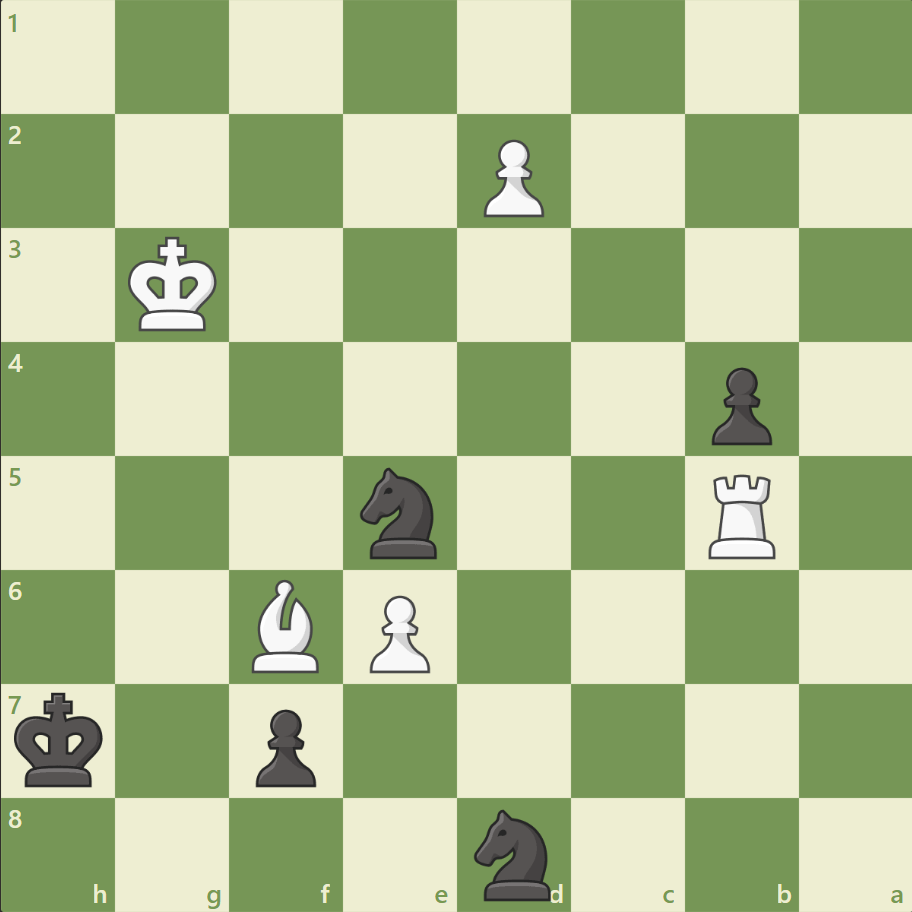B: (244, 574, 328, 676)
K: (124, 231, 224, 339)
P: (474, 132, 549, 223), (361, 586, 435, 677)
R: (700, 466, 783, 563)
k: (11, 685, 111, 793)
n: (351, 461, 449, 564), (465, 802, 562, 904)
p: (247, 700, 322, 791), (701, 359, 776, 450)
